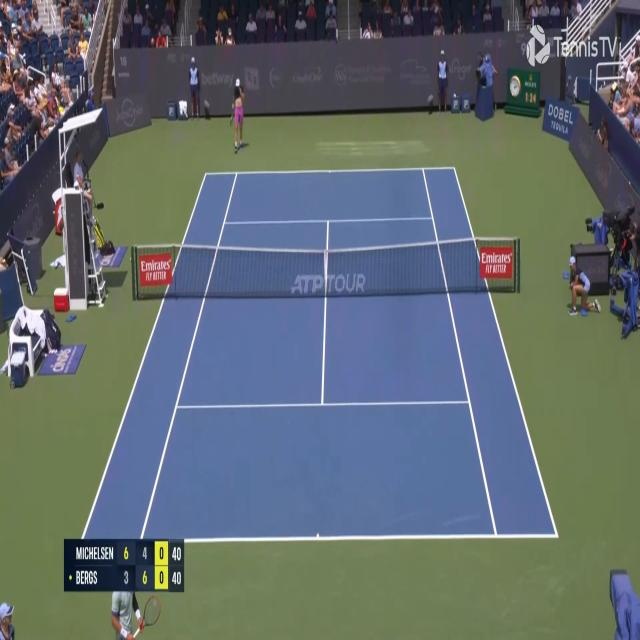tennis-player: (110, 588, 162, 640), (227, 76, 246, 154)
